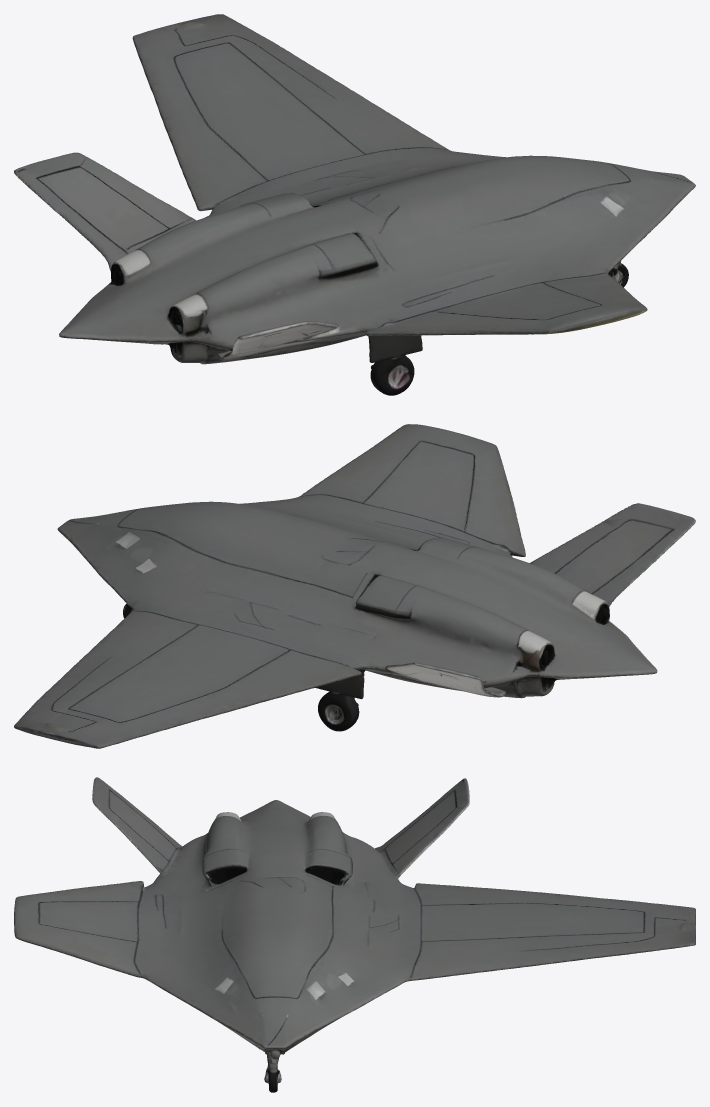
Rendered from hero.glb.
3 renders of one model, top to bottom at view 1: azimuth 30°, elevation 25°; view 2: azimuth 150°, elevation 25°; view 3: azimuth 270°, elevation 25°, orthographic. The views are drawn at different scales.
Visible parts, largest first — view 1: tripo_node_e03eda34-317f-46c0-be1b-df4456c413cd; view 2: tripo_node_e03eda34-317f-46c0-be1b-df4456c413cd; view 3: tripo_node_e03eda34-317f-46c0-be1b-df4456c413cd.
Boxes of the visible parts, x1,y1,x2,y2 form: tripo_node_e03eda34-317f-46c0-be1b-df4456c413cd: [14, 14, 695, 395]; tripo_node_e03eda34-317f-46c0-be1b-df4456c413cd: [14, 424, 695, 748]; tripo_node_e03eda34-317f-46c0-be1b-df4456c413cd: [14, 777, 695, 1092].
Bounding box in the file's own units: 0.864 × 0.212 × 1.
1 material, 1 textured.
